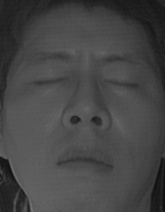blink: (103, 68, 143, 97), (26, 69, 71, 94)
mouth: (52, 139, 118, 182)
